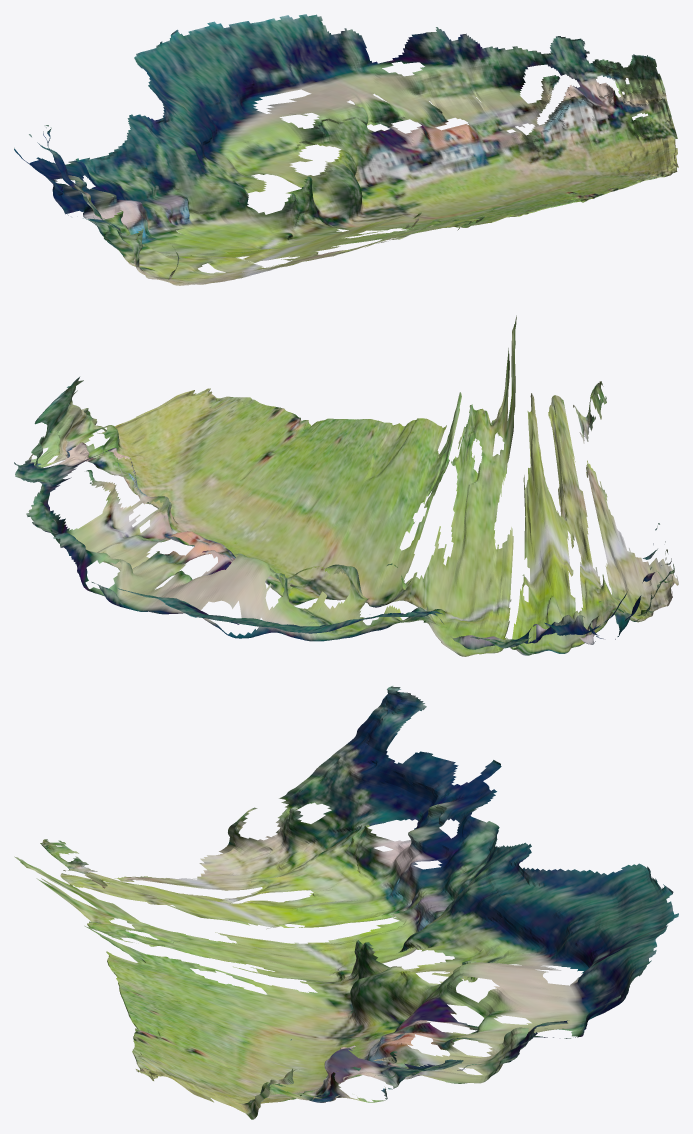
The model's file is map_clean.glb.
The picture shows the model from 3 angles, top to bottom: view 1: azimuth 30°, elevation 25°; view 2: azimuth 150°, elevation 25°; view 3: azimuth 270°, elevation 25°; orthographic projection. The views are drawn at different scales.
Visible parts, largest first — view 1: geometry_0; view 2: geometry_0; view 3: geometry_0.
Part boxes in pixels (<box>): geometry_0: <box>14,14,678,285</box>; geometry_0: <box>14,315,678,656</box>; geometry_0: <box>14,686,678,1119</box>.
Size of the model in its own units: 33.86 by 8.63 by 29.85.
